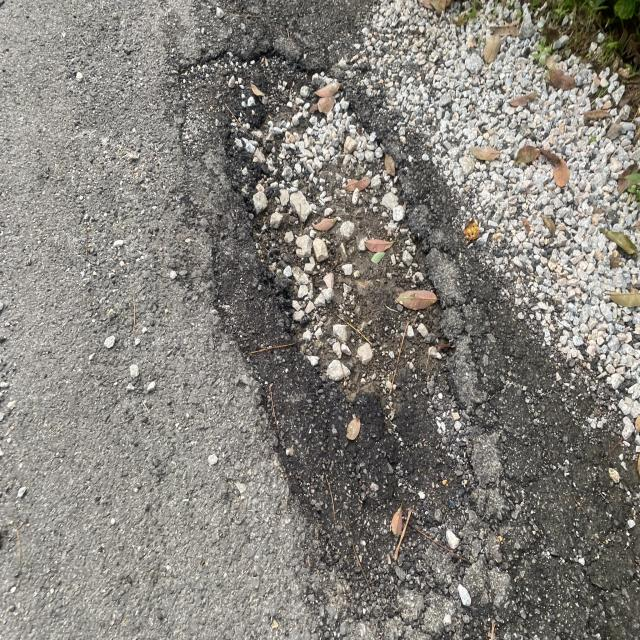Pothole: (180, 36, 504, 498)
